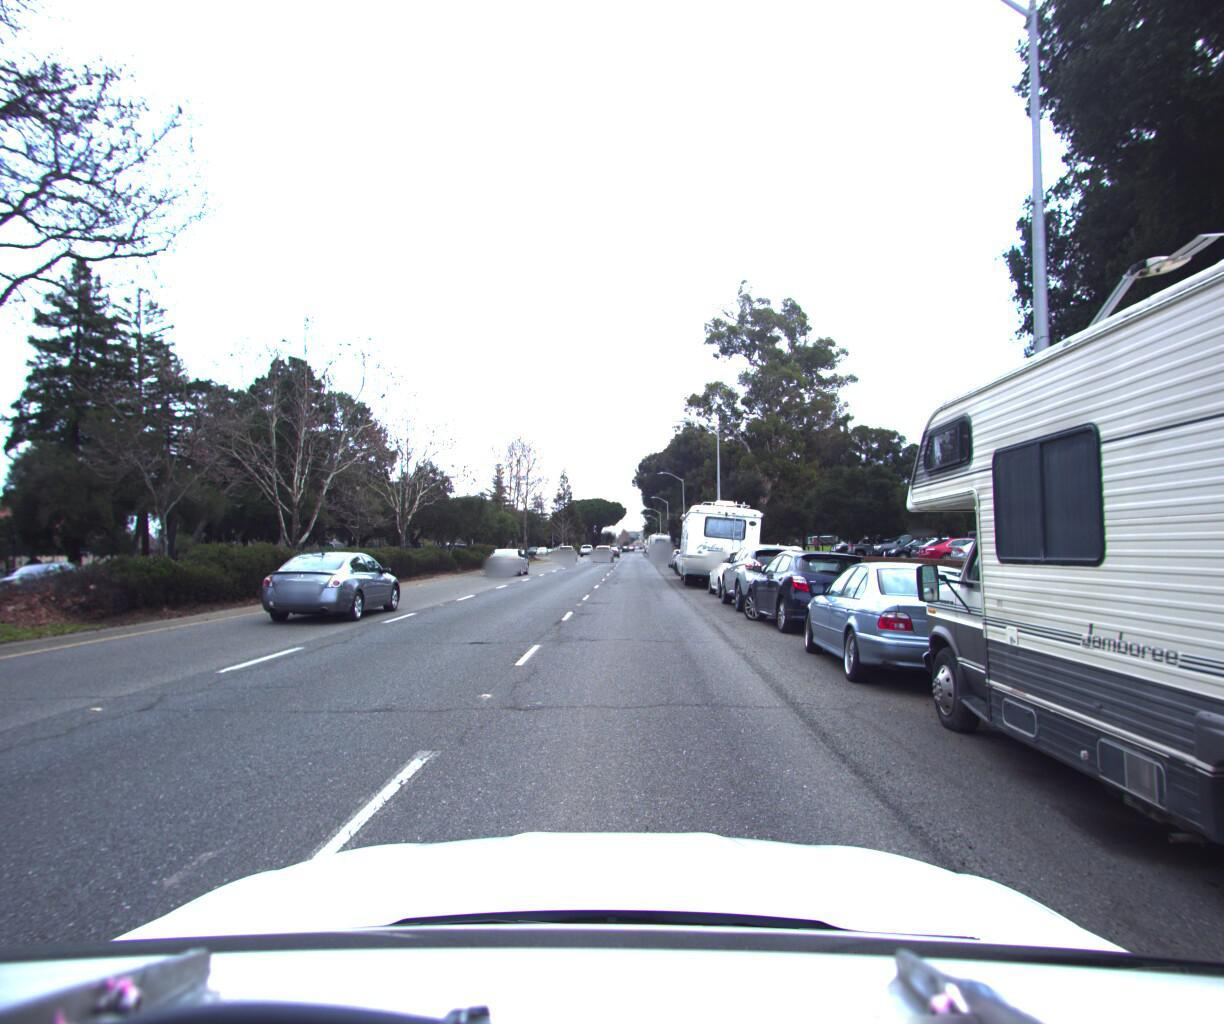car: (790, 549, 1043, 706), (739, 540, 886, 638), (257, 549, 406, 628), (713, 535, 822, 616), (0, 558, 105, 601), (703, 538, 771, 596), (483, 543, 530, 573), (556, 539, 582, 559), (587, 543, 613, 561)
other_vehicle: (879, 0, 1224, 1024), (676, 490, 762, 590)
